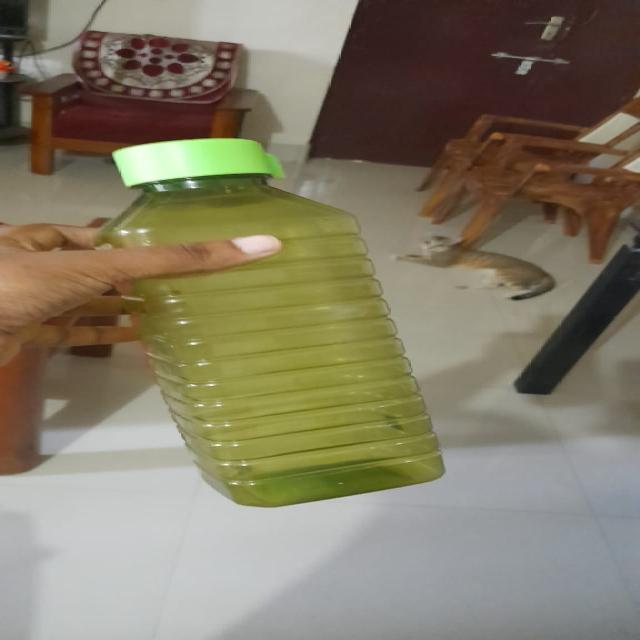Plastic - Recyclable: (89, 137, 448, 508)
